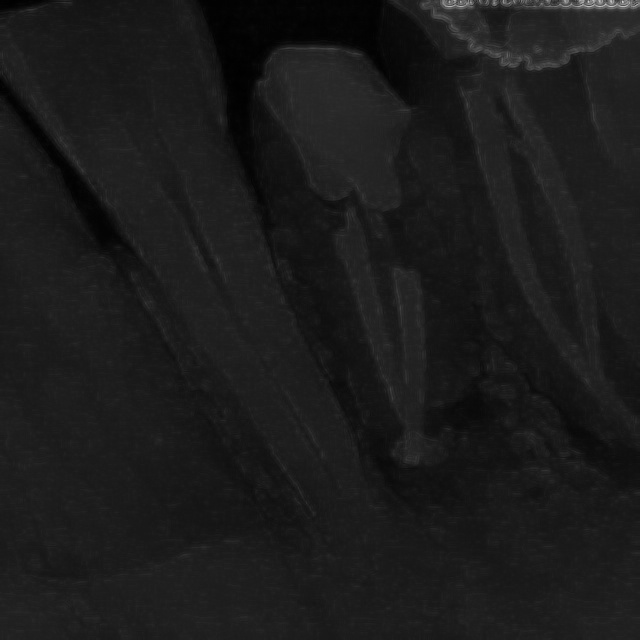Class 0- No endodontic treatment: (434, 11, 640, 470)
Class 1- complete endodontic treatment: (185, 11, 552, 522)
